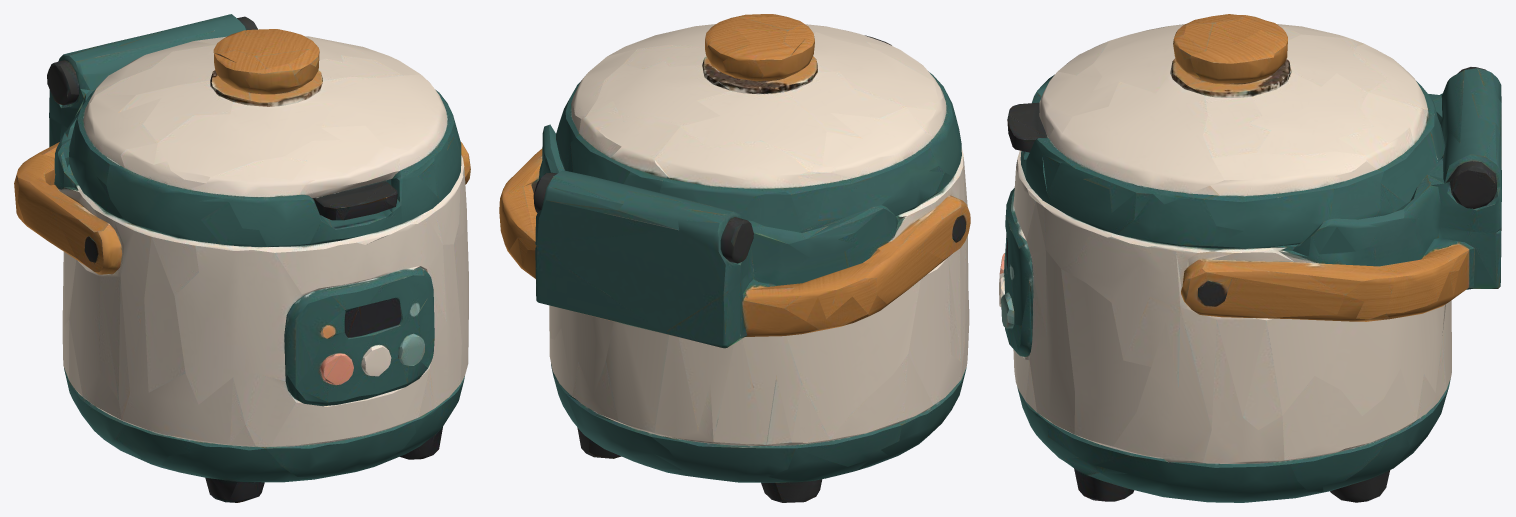
File: rounded-restaurant-rice-cooker-closed.glb
3 views of the same model, side by side, from view 1: azimuth 30°, elevation 25°; view 2: azimuth 150°, elevation 25°; view 3: azimuth 270°, elevation 25° (orthographic). The views are drawn at different scales.
Parts seen in each view (by area): view 1: Mesh_0; view 2: Mesh_0; view 3: Mesh_0.
Boxes of the visible parts, box(x1,y1,x2,y2) form: Mesh_0: box(14, 14, 470, 502); Mesh_0: box(499, 14, 970, 502); Mesh_0: box(999, 14, 1501, 502).
Size of the model in its own units: 0.4582 by 0.4545 by 0.5.
Materials: 1 (1 with a texture image).
